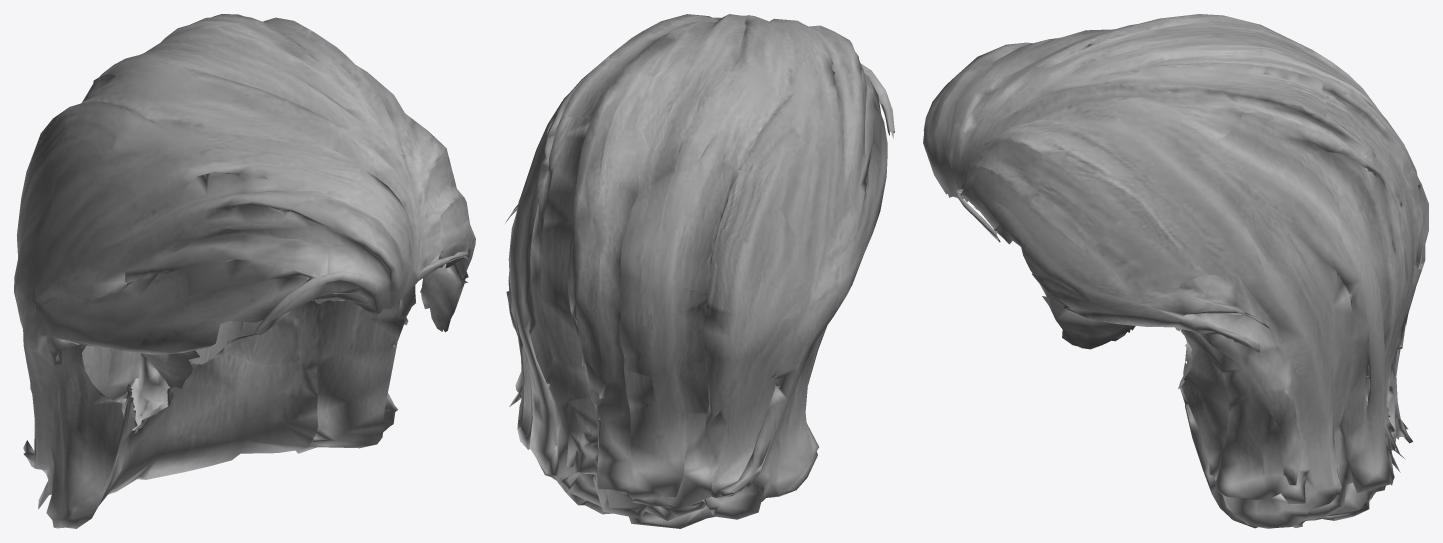
The model's file is hair_swept.glb.
3 views of the same model, side by side, from view 1: azimuth 30°, elevation 25°; view 2: azimuth 150°, elevation 25°; view 3: azimuth 270°, elevation 25° (orthographic). The views are drawn at different scales.
Parts seen in each view (by area): view 1: Hair; view 2: Hair; view 3: Hair.
Boxes of the visible parts, x1,y1,x2,y2 form: Hair: [14, 14, 475, 528]; Hair: [505, 14, 894, 528]; Hair: [923, 14, 1428, 528].
Size of the model in its own units: 0.9815 by 1.23 by 1.23.
1 material, 1 textured.
